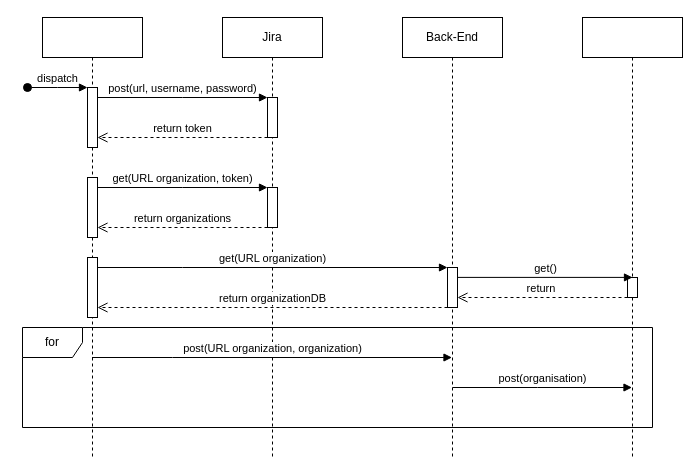
The diagram is 700 pixels wide and 475 high, and some of its shapes have lost their labels. The box of each missing label's shape, as (x1, y1, x2, y2) in pixels:
DataBase: (582, 16, 682, 458)
Jira-Connector: (42, 16, 142, 458)
